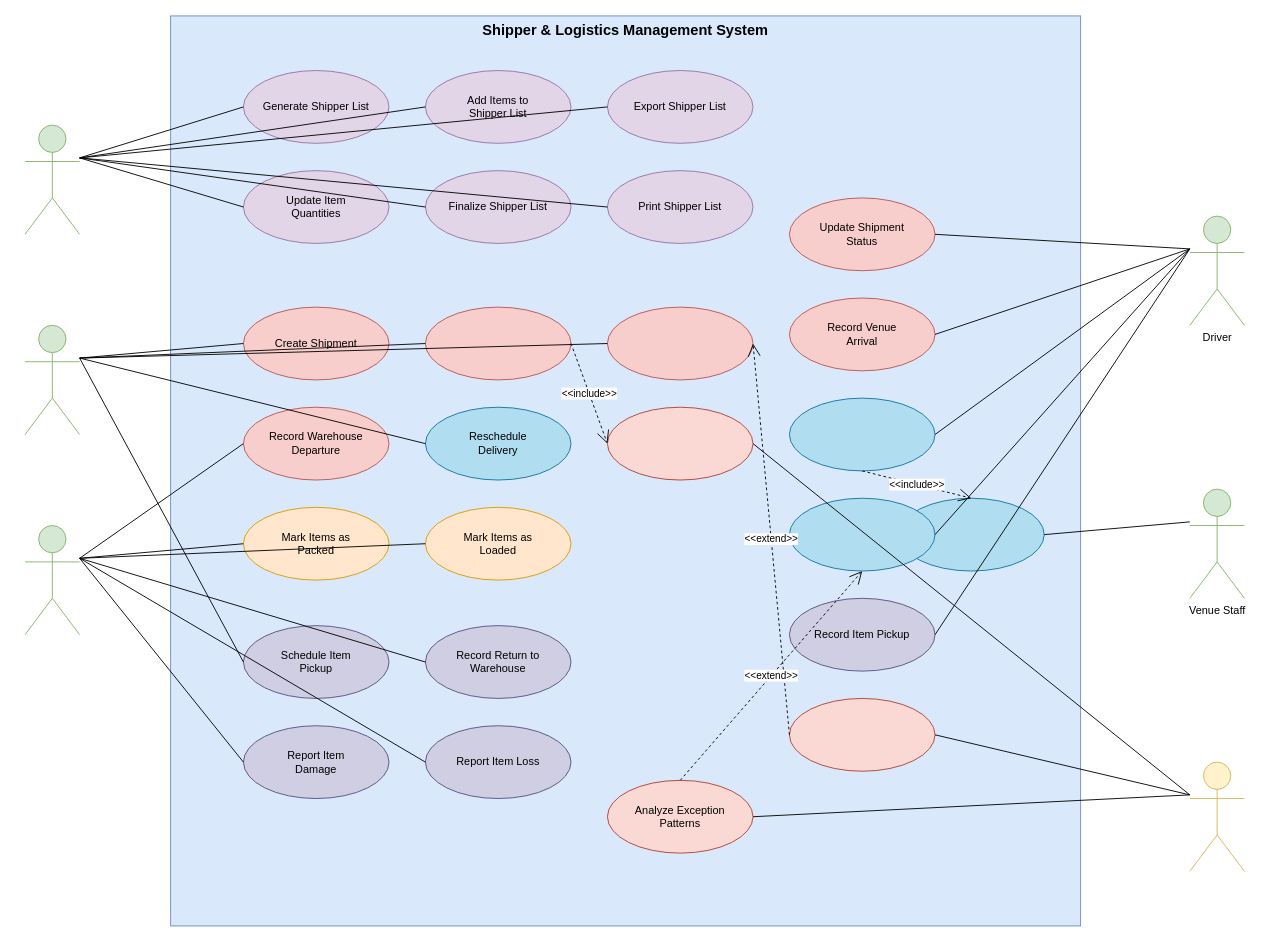
Some shapes in this 1263 by 942 pixel diagram are drawn without their labels. Each missing label, with the box of its shape:
<<system>> Azure AI: (1189, 761, 1244, 871)
Assign Driver to Shipment: (425, 306, 571, 380)
Capture Delivery Signature: (898, 497, 1044, 571)
Deliver Items to Venue: (789, 397, 935, 471)
Event Manager: (24, 124, 80, 234)
Logistics Coordinator: (24, 324, 80, 435)
Optimize Delivery Route: (607, 406, 753, 480)
Predict Delivery Time: (789, 698, 935, 771)
Report Delivery Exception: (789, 497, 935, 571)
Track Shipment Real-time: (607, 306, 753, 380)
Warehouse Personnel: (24, 525, 80, 635)
